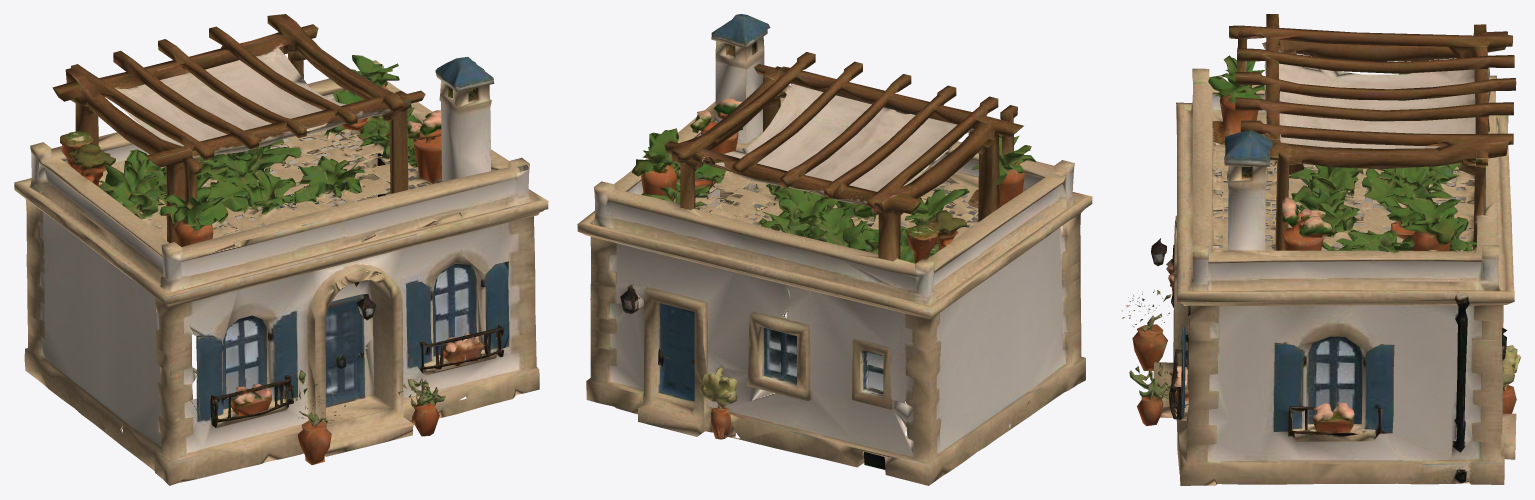
The picture shows the model from 3 angles, left to right: view 1: azimuth 30°, elevation 25°; view 2: azimuth 150°, elevation 25°; view 3: azimuth 270°, elevation 25°; orthographic projection. The views are drawn at different scales.
Parts seen in each view (by area): view 1: harbor__tower_1__native_mobile; view 2: harbor__tower_1__native_mobile; view 3: harbor__tower_1__native_mobile.
Boxes of the visible parts, <box> form: harbor__tower_1__native_mobile: <box>14,14,548,485</box>; harbor__tower_1__native_mobile: <box>577,14,1092,485</box>; harbor__tower_1__native_mobile: <box>1121,14,1520,485</box>.
Size of the model in its own units: 1 by 0.8094 by 0.8649.
Materials: 1 (1 with a texture image).
